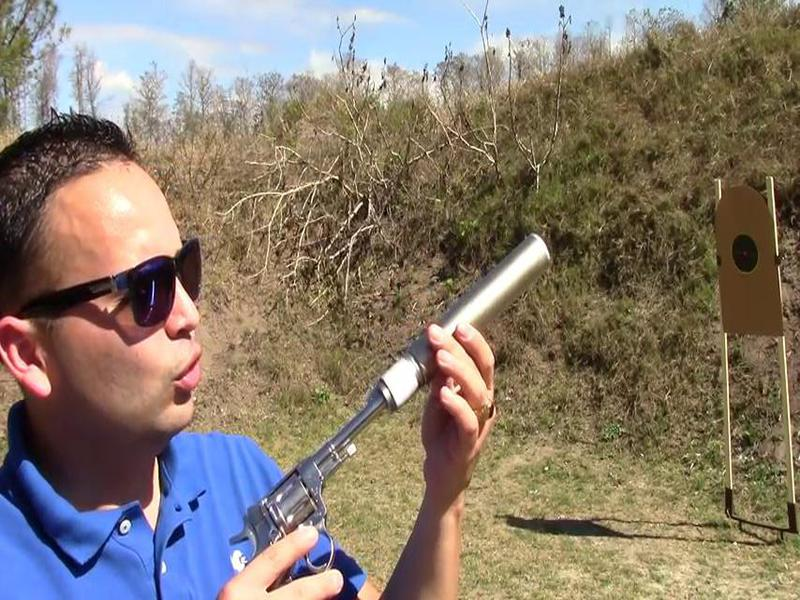Revolver: (232, 396, 396, 600)
